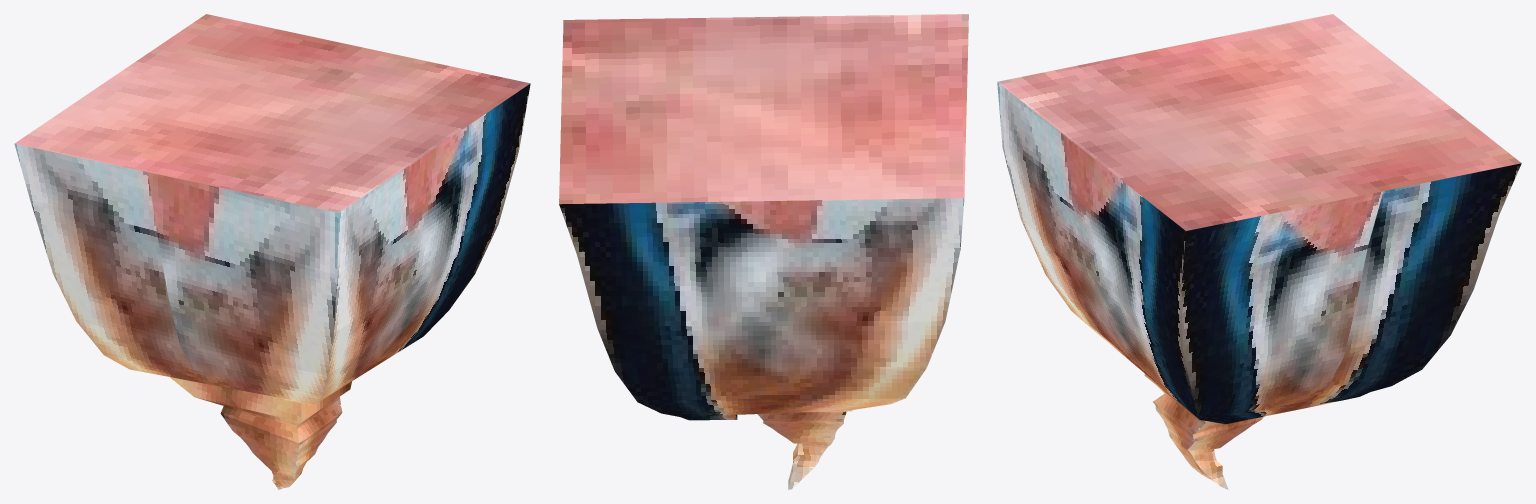
3 views of the same model, side by side, from view 1: azimuth 30°, elevation 25°; view 2: azimuth 150°, elevation 25°; view 3: azimuth 270°, elevation 25° (orthographic). The views are drawn at different scales.
Parts seen in each view (by area): view 1: SPLICE_2.001; view 2: SPLICE_2.001; view 3: SPLICE_2.001.
Part boxes in pixels (box(x1,y1,x2,y2)): SPLICE_2.001: box(14, 14, 530, 489); SPLICE_2.001: box(559, 14, 968, 489); SPLICE_2.001: box(997, 14, 1521, 489).
Size of the model in its own units: 1.37 by 1.1 by 1.37.
Materials: 1 (1 with a texture image).
